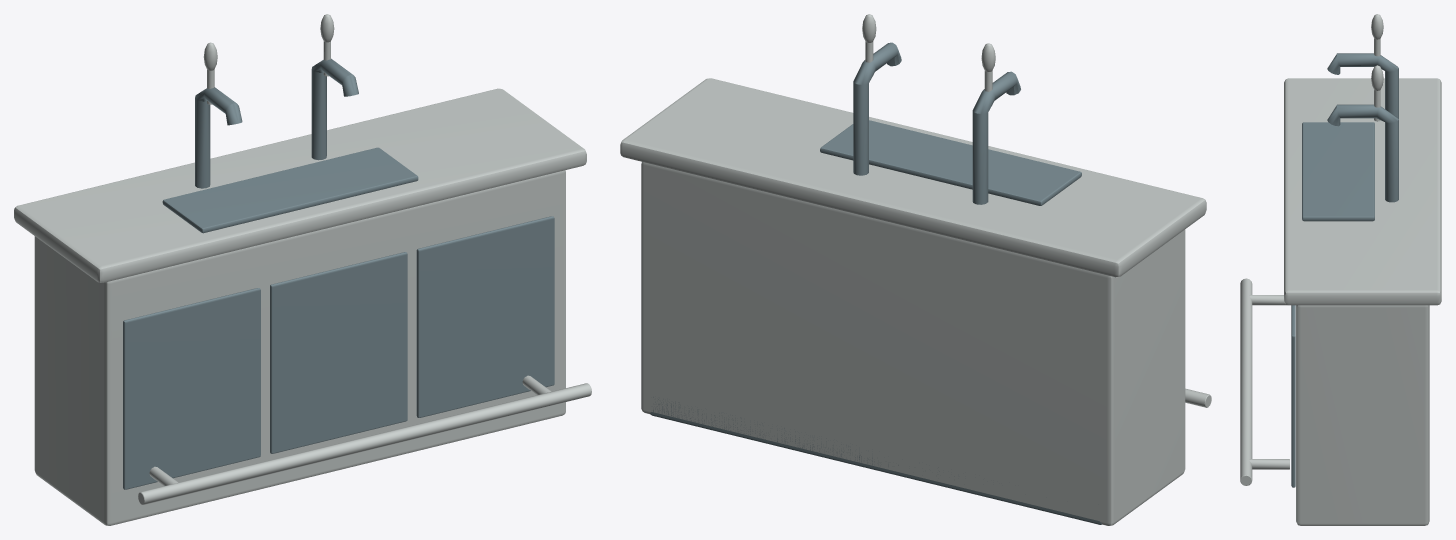
File: bar-counter.glb
The picture shows the model from 3 angles, left to right: view 1: azimuth 30°, elevation 25°; view 2: azimuth 150°, elevation 25°; view 3: azimuth 270°, elevation 25°; orthographic projection. The views are drawn at different scales.
Visible parts, largest first — view 1: counter_body, countertop, front_panel.001, front_panel.002, front_panel, drip_tray, brass_footrail, beer_tap.001, beer_tap; view 2: counter_body, countertop, drip_tray, beer_tap, beer_tap.001, plinth; view 3: counter_body, countertop, drip_tray, brass_footrail, beer_tap.001, beer_tap, front_panel.002, footrail_bracket.001, footrail_bracket, tap_handle.001, tap_handle.
Boxes of the visible parts, x1,y1,x2,y2 form: counter_body: (34,170,565,525); countertop: (14,88,586,282); front_panel.001: (270,252,407,453); front_panel.002: (416,216,554,417); front_panel: (123,288,260,489); drip_tray: (162,147,418,233); brass_footrail: (138,383,591,504); beer_tap.001: (311,58,358,160); beer_tap: (195,87,242,188); counter_body: (641,162,1185,525); countertop: (620,78,1206,277); drip_tray: (820,120,1081,205); beer_tap: (972,71,1020,204); beer_tap.001: (853,42,901,175); plinth: (650,397,1101,524); counter_body: (1296,305,1429,525); countertop: (1284,78,1441,305); drip_tray: (1302,122,1374,221); brass_footrail: (1240,278,1252,485); beer_tap.001: (1327,104,1398,202); beer_tap: (1327,53,1398,118); front_panel.002: (1291,305,1295,487); footrail_bracket.001: (1249,459,1289,469); footrail_bracket: (1249,295,1287,305); tap_handle.001: (1371,65,1383,90); tap_handle: (1371,14,1383,39).
Size of the model in its own units: 2.1 by 1.71 by 0.83.
